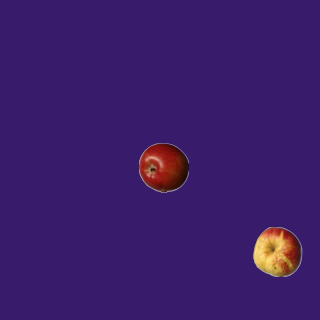Apple Braeburn: (138, 142, 188, 192)
Apple Red Yellow 1: (252, 226, 302, 276)
